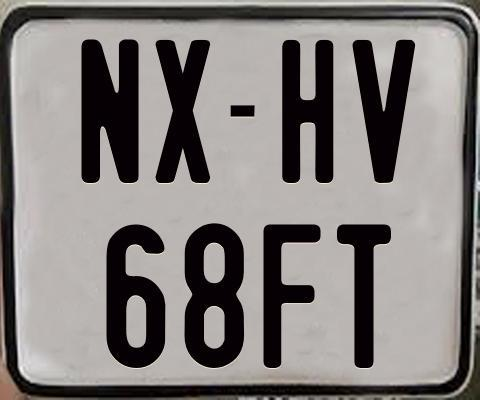6: (104, 224, 168, 374)
8: (181, 222, 246, 371)
F: (261, 223, 323, 370)
H: (281, 40, 334, 184)
N: (80, 38, 143, 187)
T: (337, 221, 394, 365)
V: (349, 40, 415, 189)
X: (154, 38, 210, 186)
